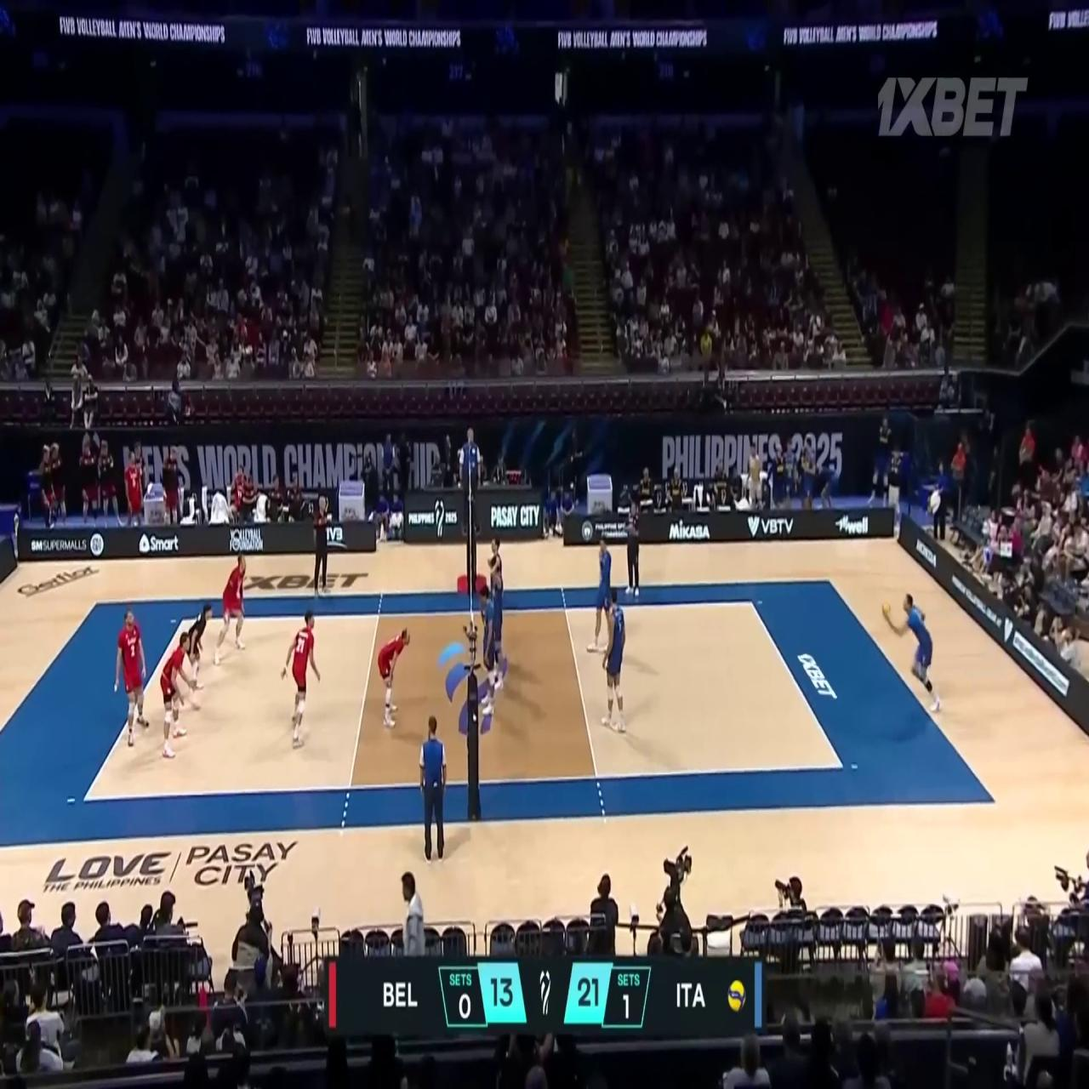ball: (882, 601, 890, 614)
